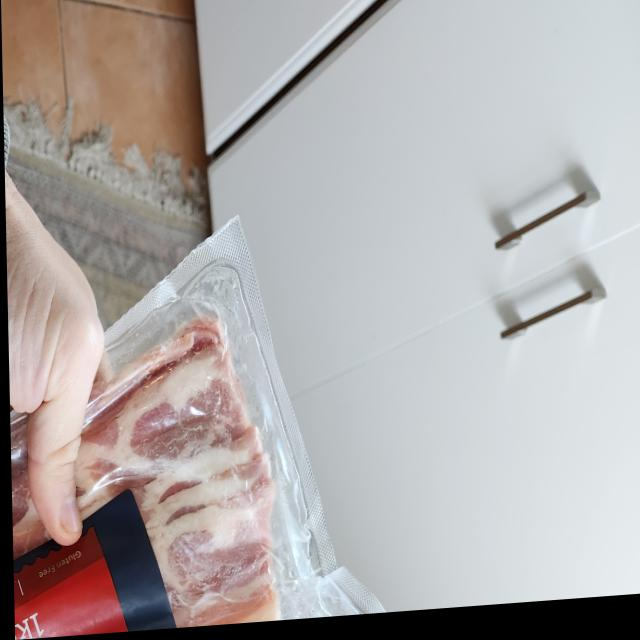bacon: (4, 202, 494, 640)
